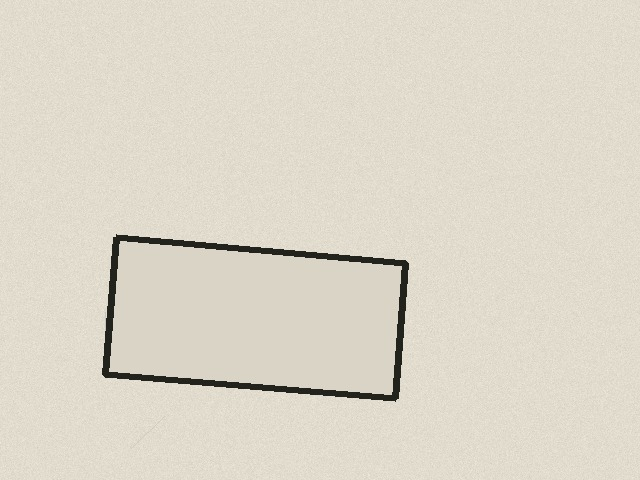parking_area: (105, 237, 405, 398)
